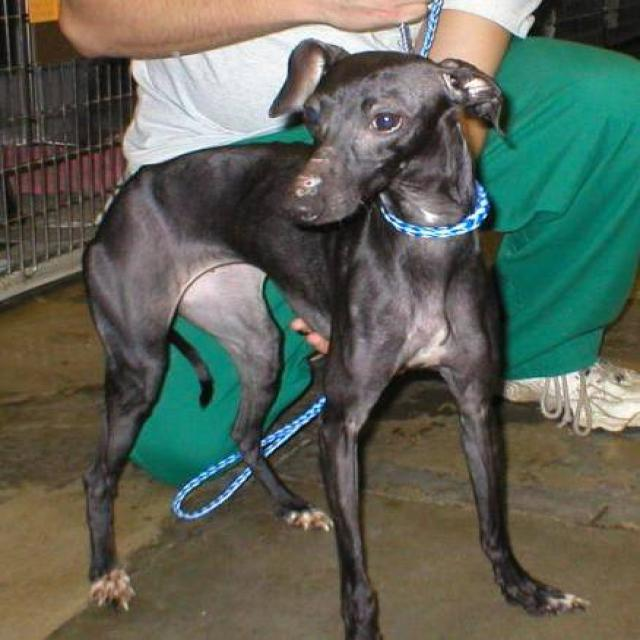dog: (79, 37, 590, 639)
